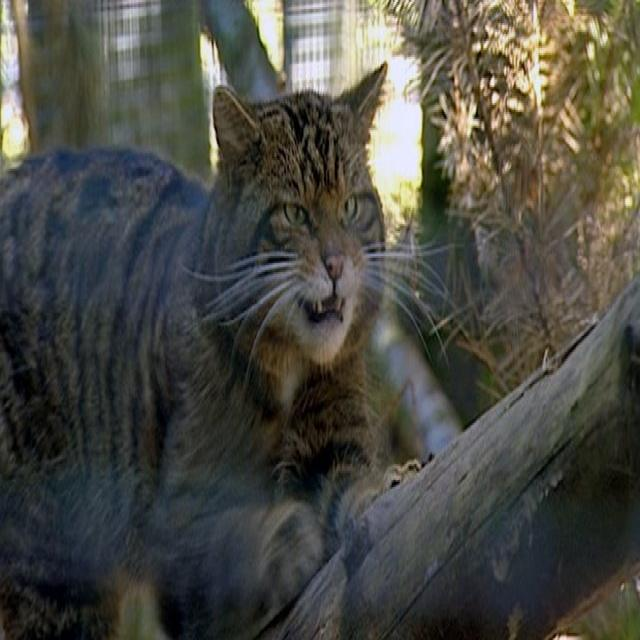cat: (0, 64, 385, 638)
